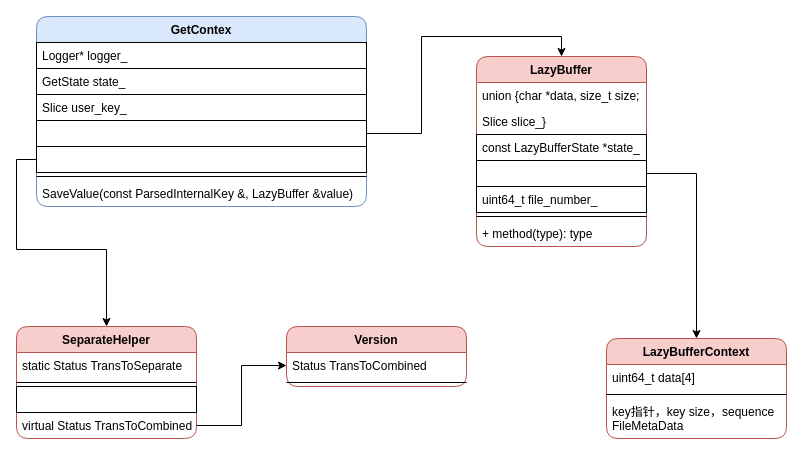
Some shapes in this 803 by 455 pixel diagram are drawn without their labels. The centre of each missing label's shape, as x and y in pixels:
"const SeparateHelper *separate_helper_" goes at [201,159].
"LazyBuffer *lazy_val_" goes at [201,133].
"LazyBufferContext context" goes at [561,173].
"virtual Status TransToseparate" goes at [106,399].
